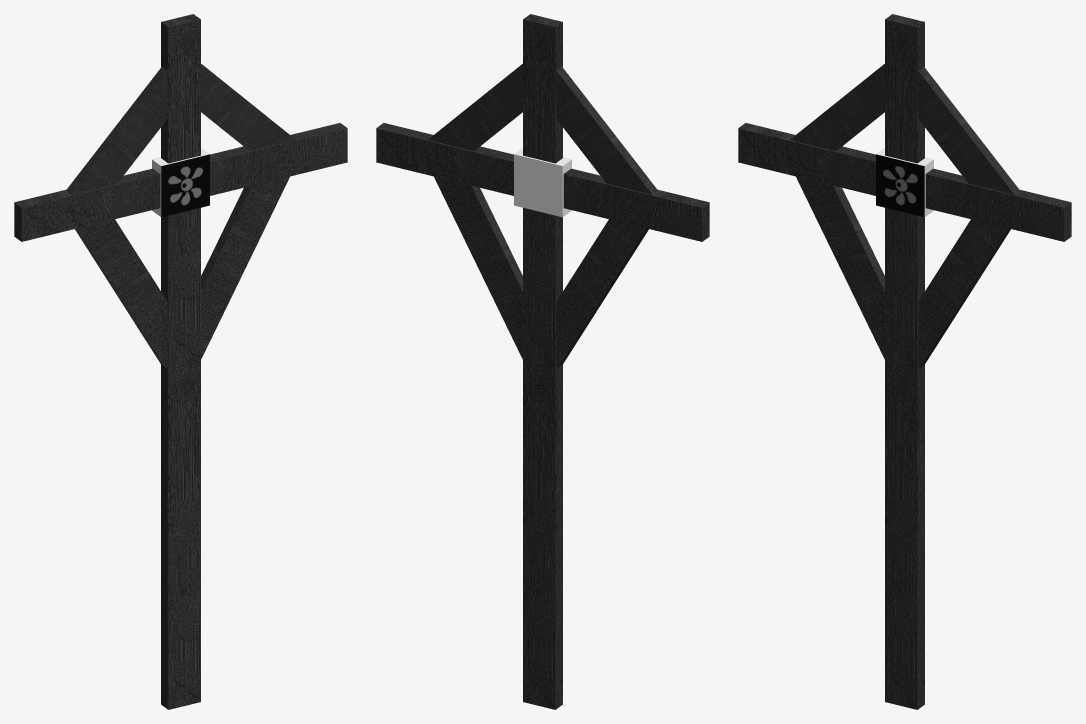
Rendered from Cross.fbx.
The picture shows the model from 3 angles, left to right: view 1: azimuth 30°, elevation 25°; view 2: azimuth 150°, elevation 25°; view 3: azimuth 330°, elevation 25°; orthographic projection.
Visible parts, largest first — view 1: node_id13 (×6), node_id10; view 2: node_id13 (×6), node_id10; view 3: node_id13 (×6), node_id10.
Part boxes in pixels (bbox=[...]): node_id13 (×6): bbox=[14, 14, 347, 709]; node_id10: bbox=[161, 154, 209, 217]; node_id13 (×6): bbox=[376, 14, 709, 709]; node_id10: bbox=[514, 148, 571, 217]; node_id13 (×6): bbox=[738, 14, 1071, 709]; node_id10: bbox=[876, 154, 924, 217].
Bounding box in the file's own units: 0.256 × 0.512 × 0.0128.
Materials: 8 (7 with a texture image).
